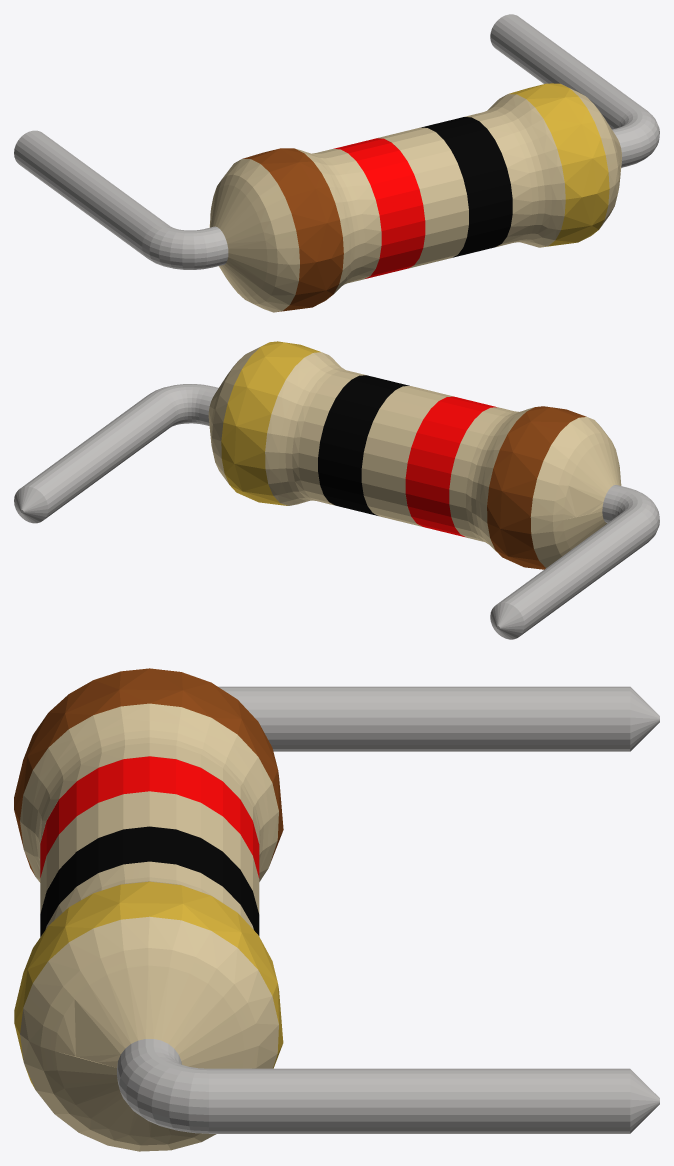
File: Yageo CFR-25 Resistor Axial P7.62mm 12,0 Ohm.obj
3 renders of one model, top to bottom at view 1: azimuth 30°, elevation 25°; view 2: azimuth 150°, elevation 25°; view 3: azimuth 270°, elevation 25°, orthographic. The views are drawn at different scales.
Visible parts, largest first — view 1: Yageo_CFR-25_Resistor_Axial_P7.62mm_12,0_Ohm; view 2: Yageo_CFR-25_Resistor_Axial_P7.62mm_12,0_Ohm; view 3: Yageo_CFR-25_Resistor_Axial_P7.62mm_12,0_Ohm.
Part boxes in pixels (x1,y1,x2,y2): Yageo_CFR-25_Resistor_Axial_P7.62mm_12,0_Ohm: (14,14,659,312); Yageo_CFR-25_Resistor_Axial_P7.62mm_12,0_Ohm: (14,341,659,639); Yageo_CFR-25_Resistor_Axial_P7.62mm_12,0_Ohm: (14,668,659,1151).
Size of the model in its own units: 0.0249 by 0.00688 by 0.0166.
